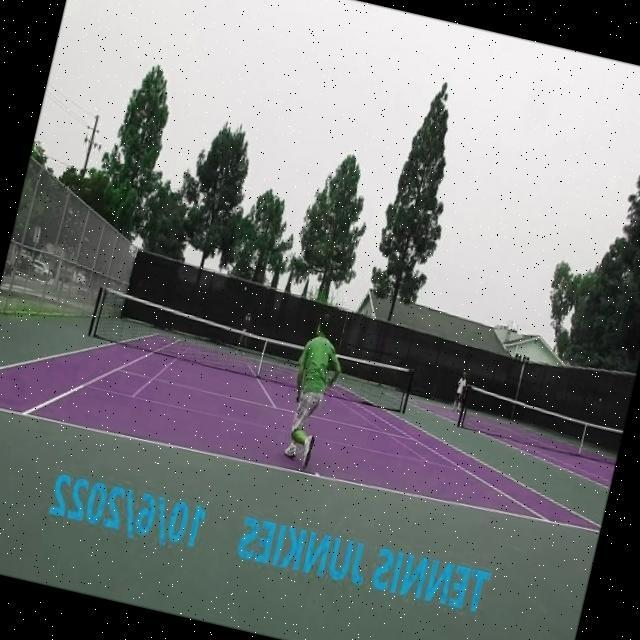court: (0, 297, 620, 548)
player: (276, 310, 352, 472)
